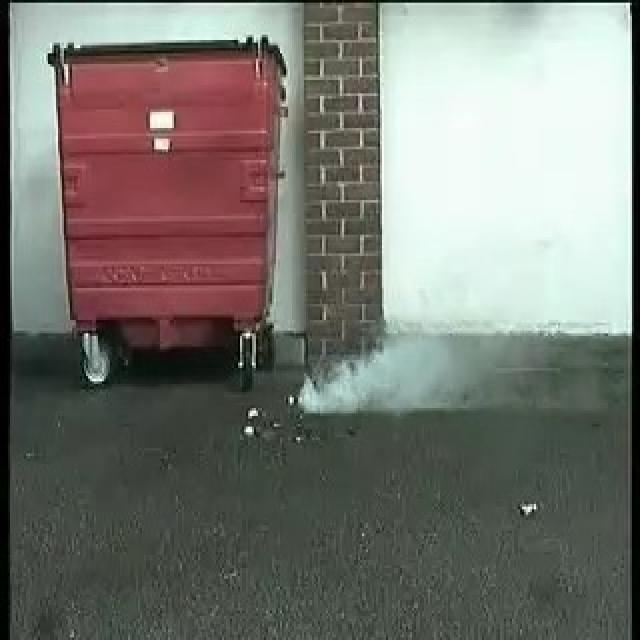smoke: (296, 324, 478, 414)
